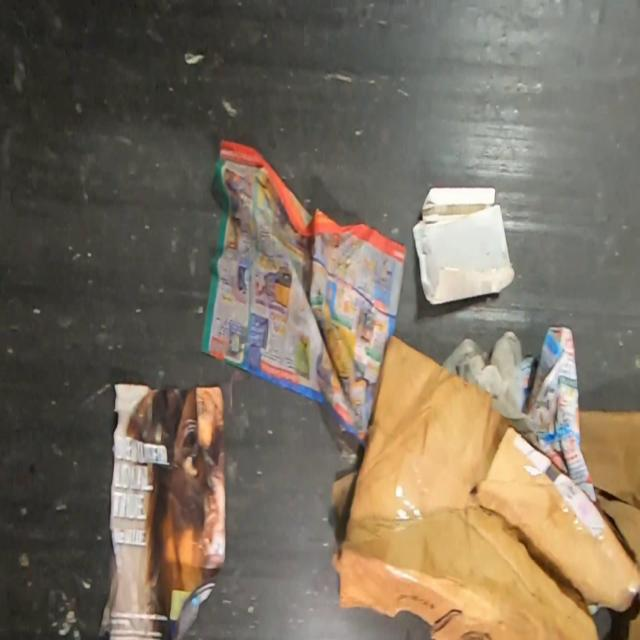cardboard: (330, 333, 640, 640), (411, 186, 516, 304), (627, 605, 640, 640)
soft_plastic: (442, 329, 525, 419)
